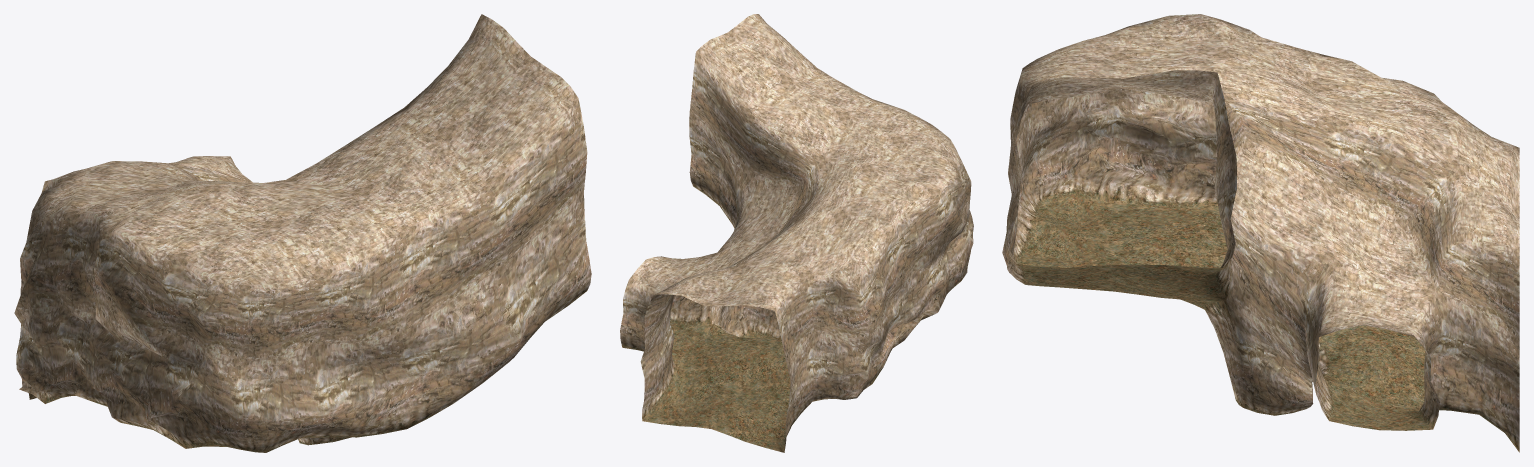
Rendered from thm_all_cave_s02_mirror_r3_mesh_r3.fbx.
The picture shows the model from 3 angles, left to right: view 1: azimuth 30°, elevation 25°; view 2: azimuth 150°, elevation 25°; view 3: azimuth 270°, elevation 25°; orthographic projection. The views are drawn at different scales.
Visible parts, largest first — view 1: mesh_node; view 2: mesh_node; view 3: mesh_node.
Boxes of the visible parts, x1,y1,x2,y2 form: mesh_node: (14,14,591,452); mesh_node: (620,14,973,452); mesh_node: (1002,14,1519,452).
Bounding box in the file's own units: 41.68 × 44.73 × 50.2.
